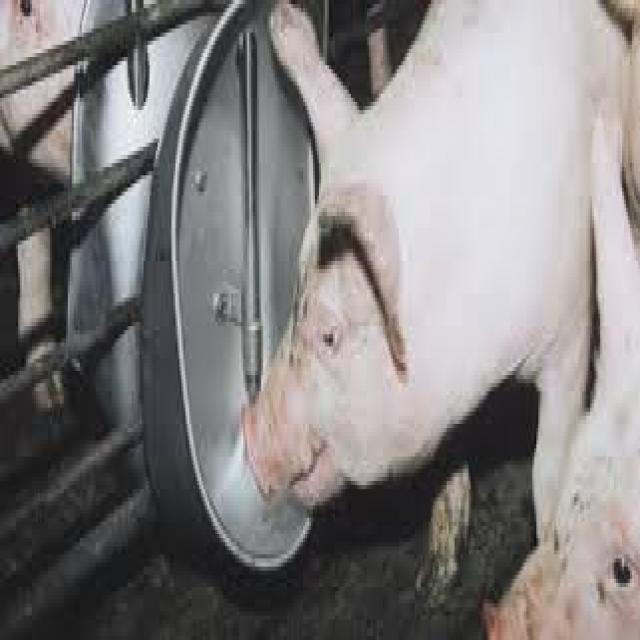pig: (242, 0, 600, 541), (489, 95, 640, 640)
